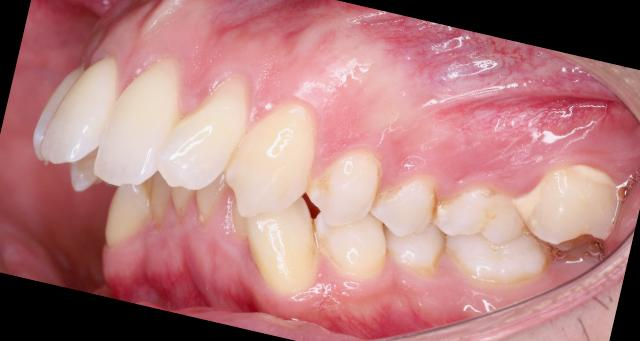canine class II full class: (205, 93, 424, 322)
molar class II full class: (422, 166, 566, 304)
